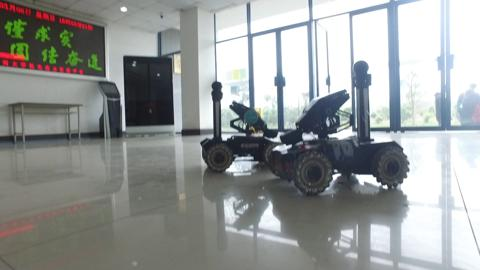chariot: (270, 58, 411, 201), (196, 78, 294, 173)
